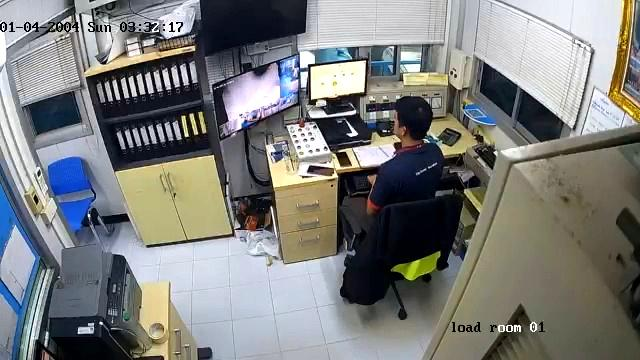Head: (394, 96, 432, 139)
People: (342, 96, 443, 231)
Phone: (307, 165, 333, 175), (336, 152, 351, 166)
